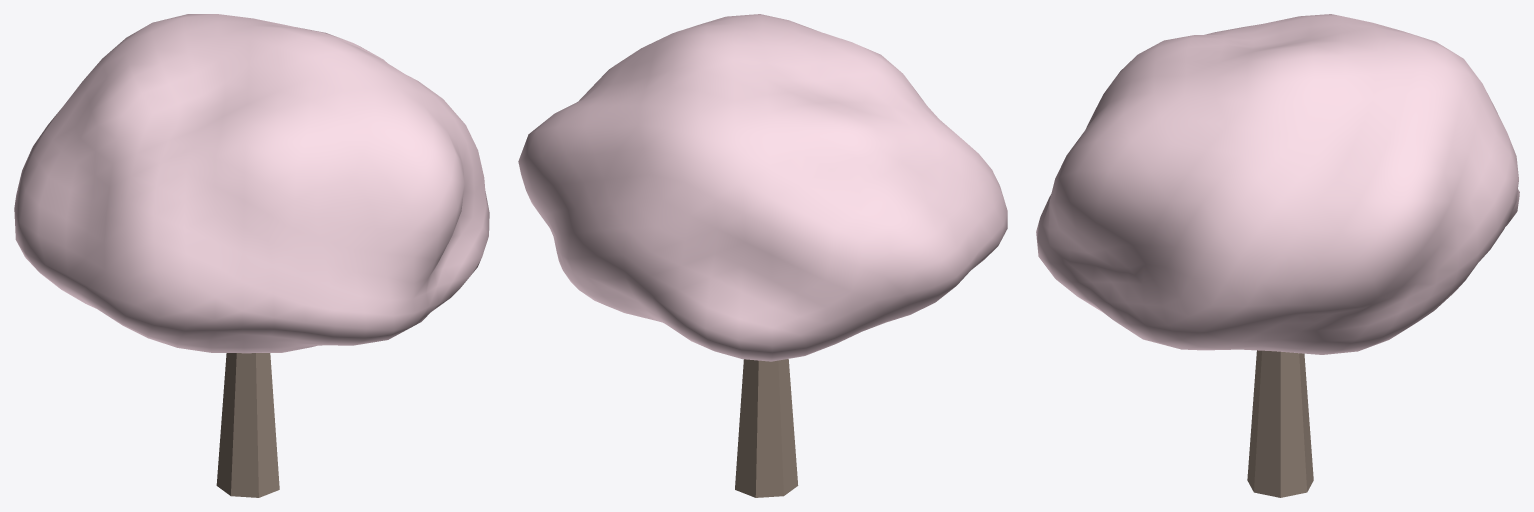
Rendered from tree-blossom-a.glb.
3 renders of one model, left to right at view 1: azimuth 30°, elevation 25°; view 2: azimuth 150°, elevation 25°; view 3: azimuth 270°, elevation 25°, orthographic. The views are drawn at different scales.
Parts seen in each view (by area): view 1: tree-blossom-a; view 2: tree-blossom-a; view 3: tree-blossom-a.
Boxes of the visible parts, x1,y1,x2,y2 form: tree-blossom-a: (14,14,489,497); tree-blossom-a: (518,14,1007,497); tree-blossom-a: (1036,14,1519,497).
Size of the model in its own units: 0.993 by 1 by 0.9714.
